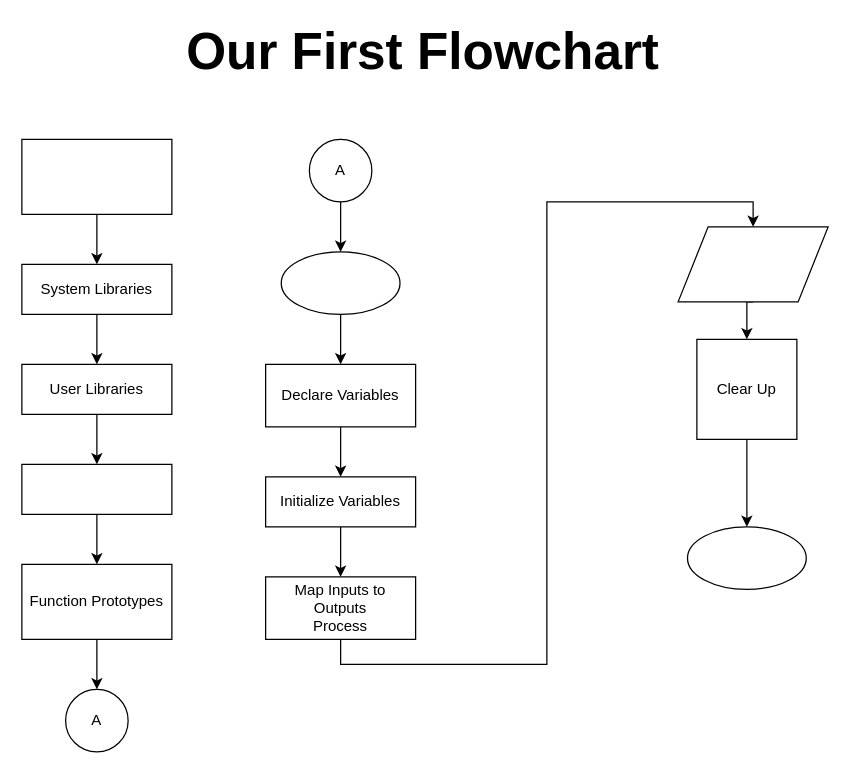
Image size: 850x774. Some labels were removed from this diagram. The shapes that lost their labels are listed below. From the top down, each one's centre as x and y in pixels, then its label:
point 96,176: Author: Date: Purpose:
point 340,282: Main
point 752,264: Display Outputs
point 96,488: Global Constants
point 746,557: Return
